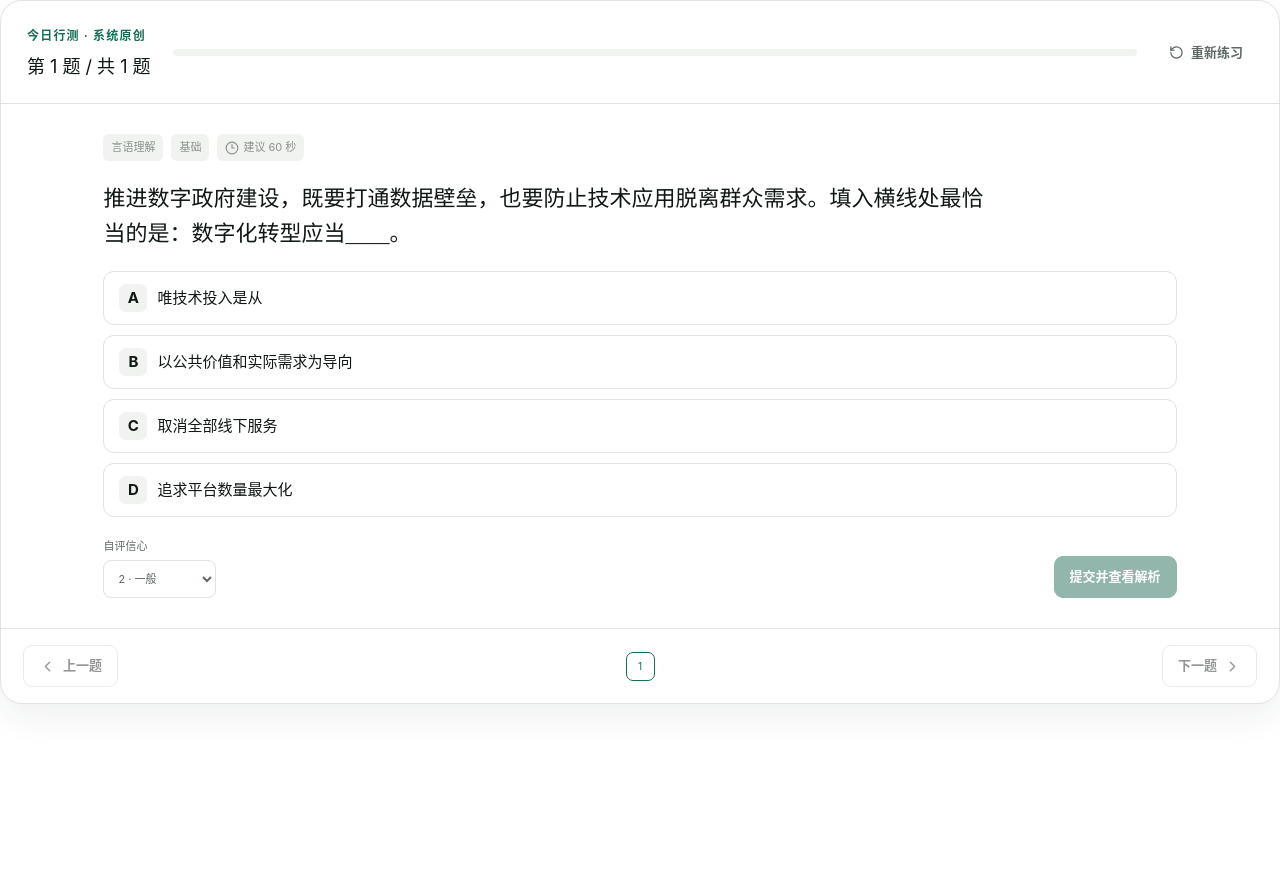
Test case: ExamPractice › keeps the answer hidden until submission
Expected: the text "正确答案" is not shown
Step 1. Click the radio button labelled "B 以公共价值和实际需求为导向" → {"x": 255, "y": 361}, box [103,335,1177,389]
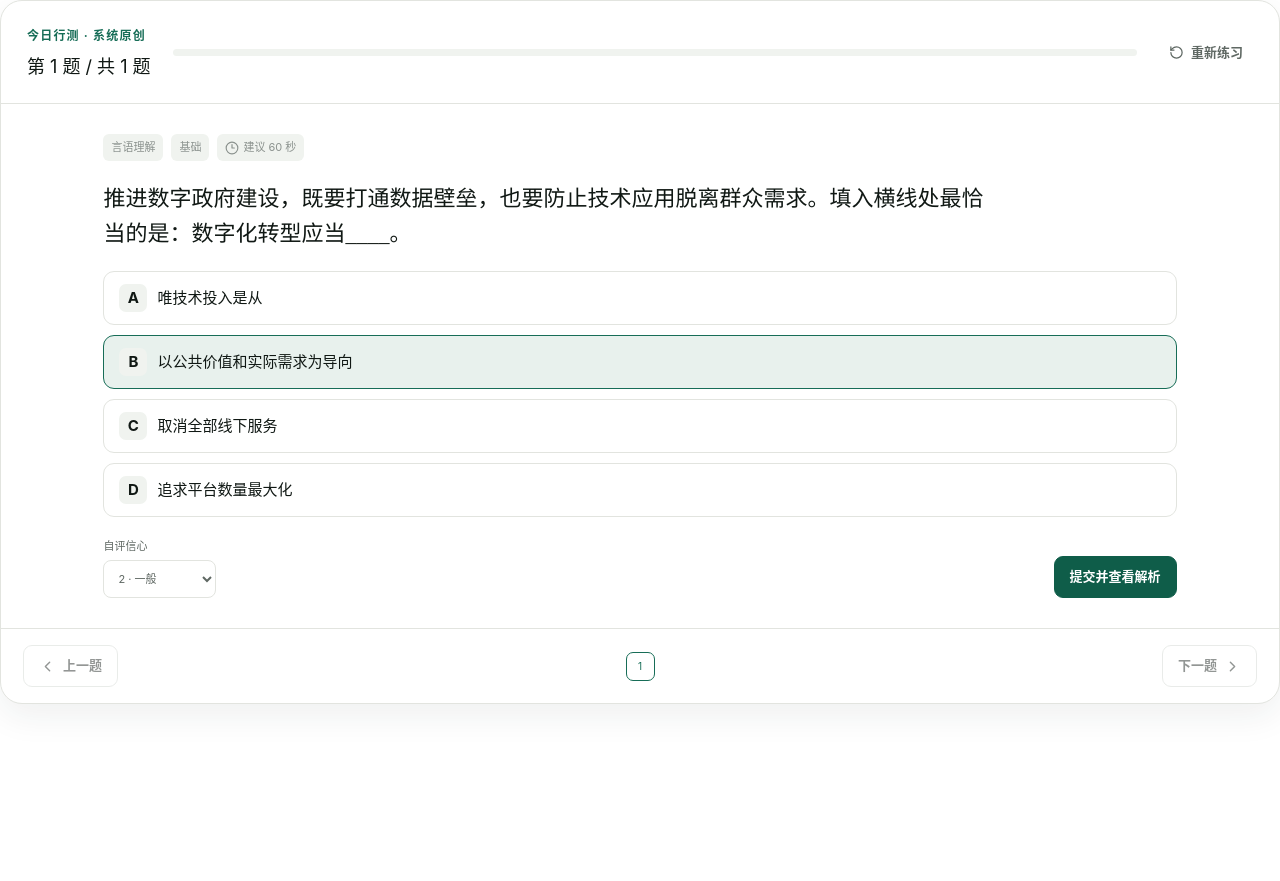
Step 2. Click the button "提交并查看解析" → {"x": 1115, "y": 577}, box [1054,556,1177,598]
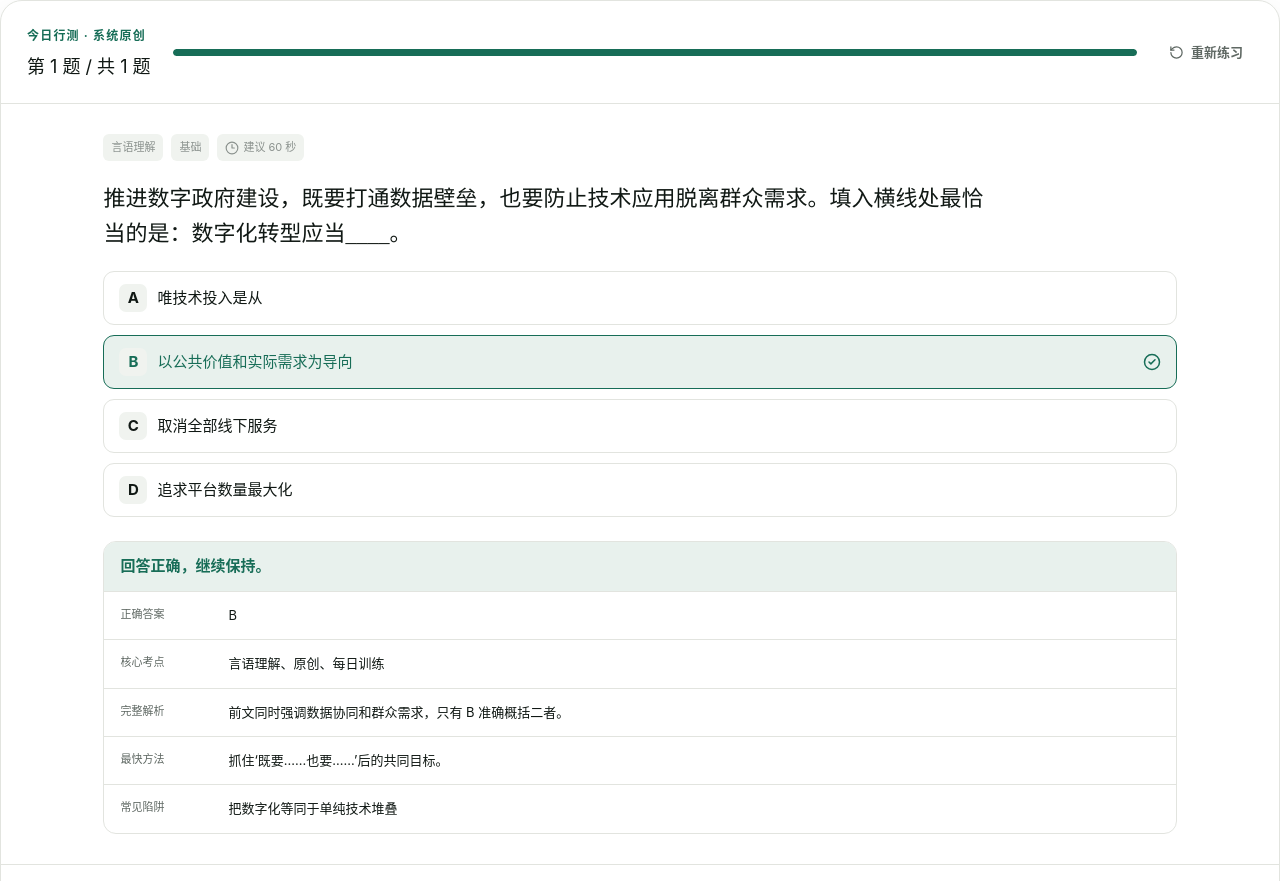
Result: the text "回答正确，继续保持。" is shown at [104,542,1176,591]
Result: the text "正确答案" is shown at [120,607,164,621]
